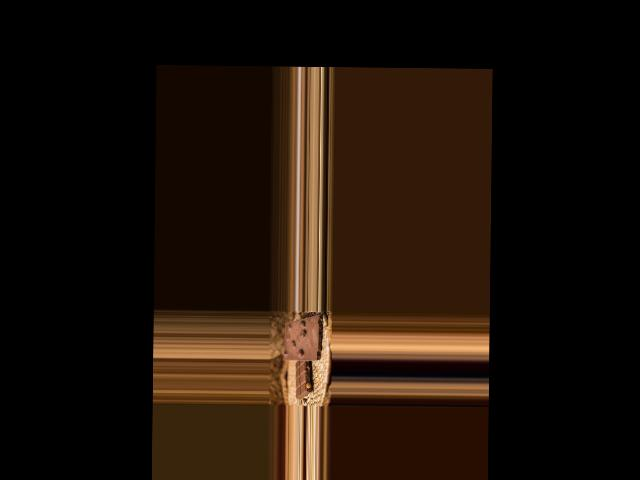chocolate: (282, 314, 322, 363)
